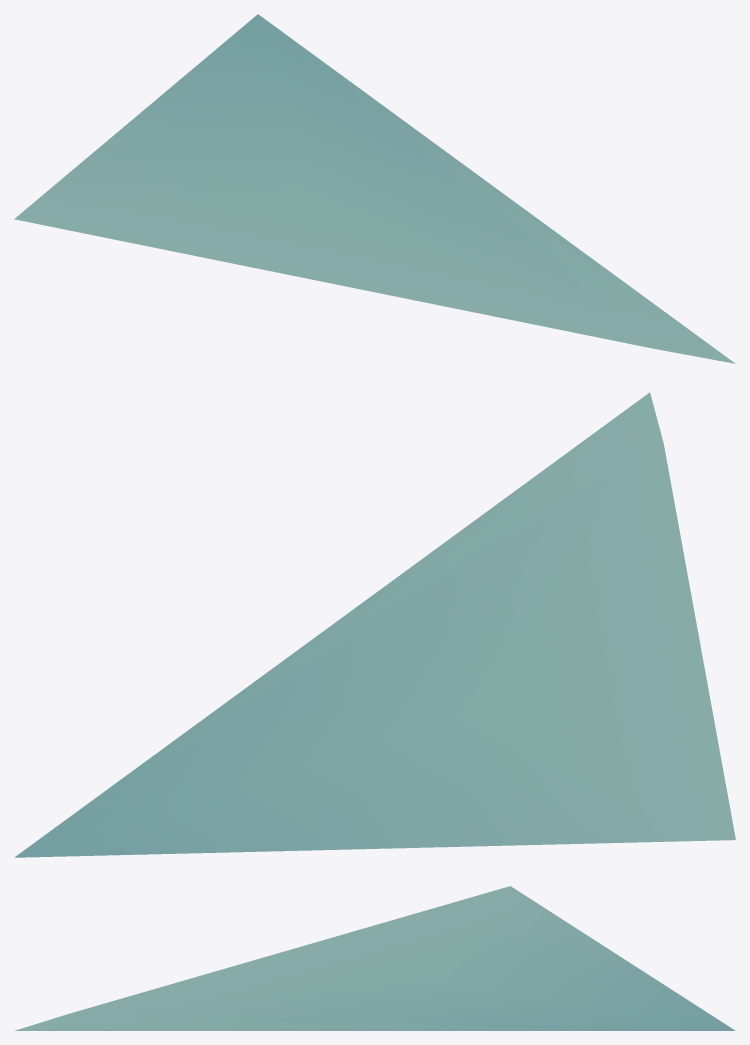
The model's file is water-14-15.glb.
3 renders of one model, top to bottom at view 1: azimuth 30°, elevation 25°; view 2: azimuth 150°, elevation 25°; view 3: azimuth 270°, elevation 25°, orthographic. The views are drawn at different scales.
Bounding box in the file's own units: 1.43 × 0 × 3.01.
